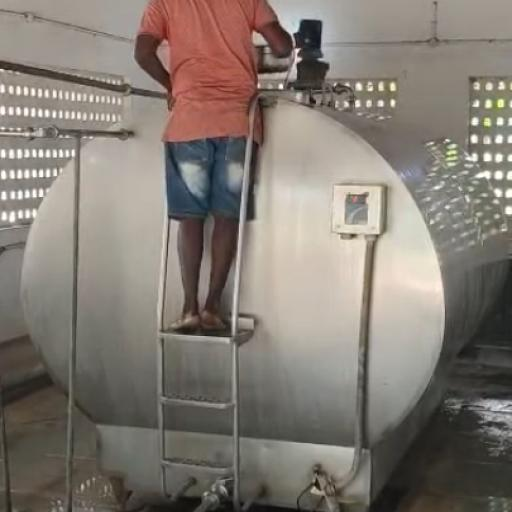silo: (16, 90, 509, 511)
vessel: (256, 44, 293, 74)
